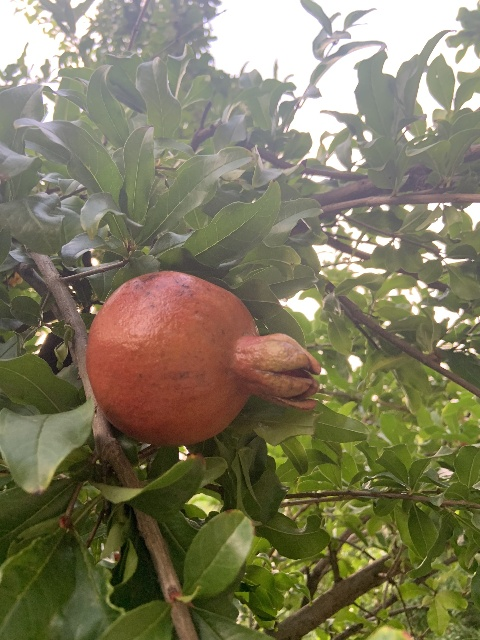ripe: (84, 270, 322, 446)
